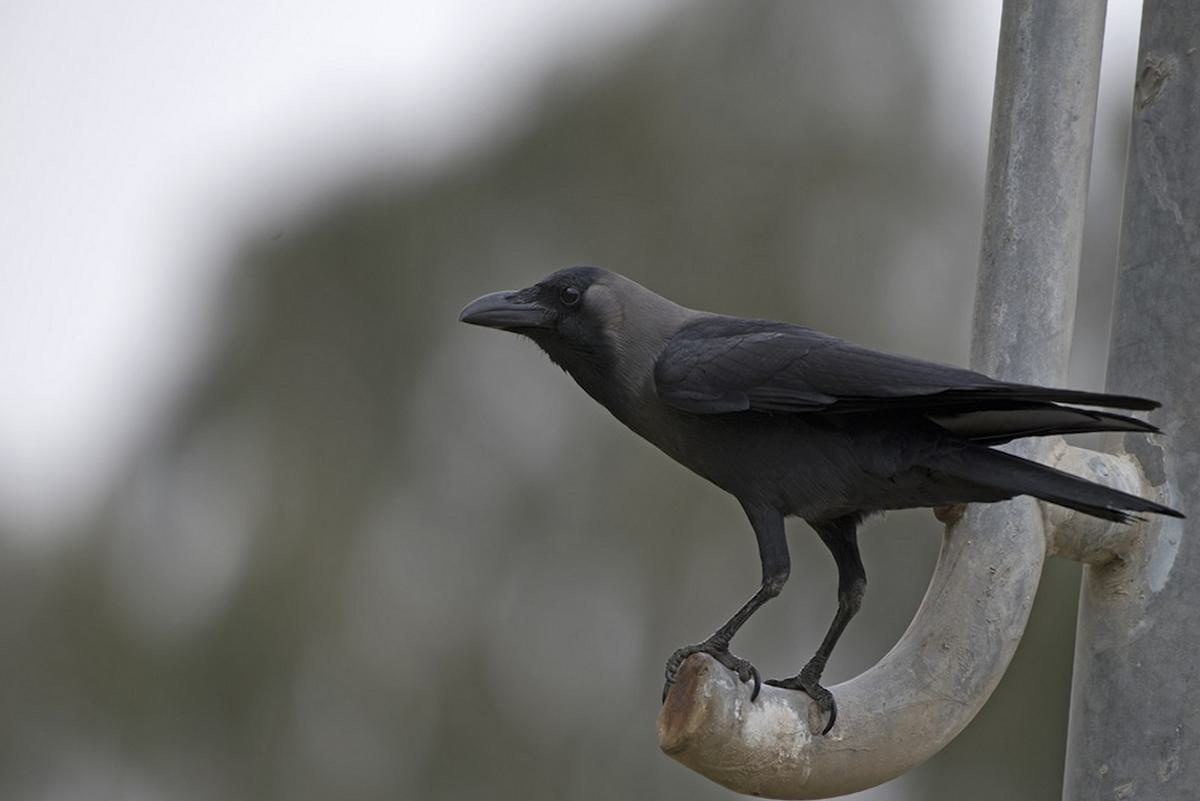crow: (457, 252, 1180, 712)
